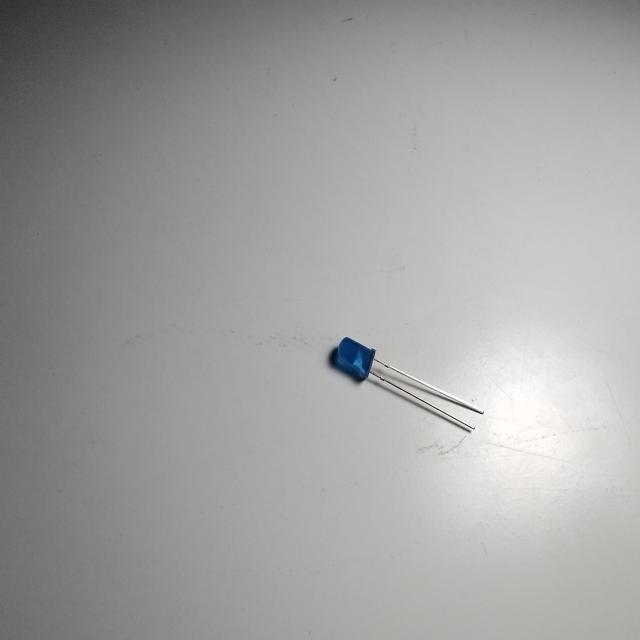blue_led: (333, 319, 487, 451)
